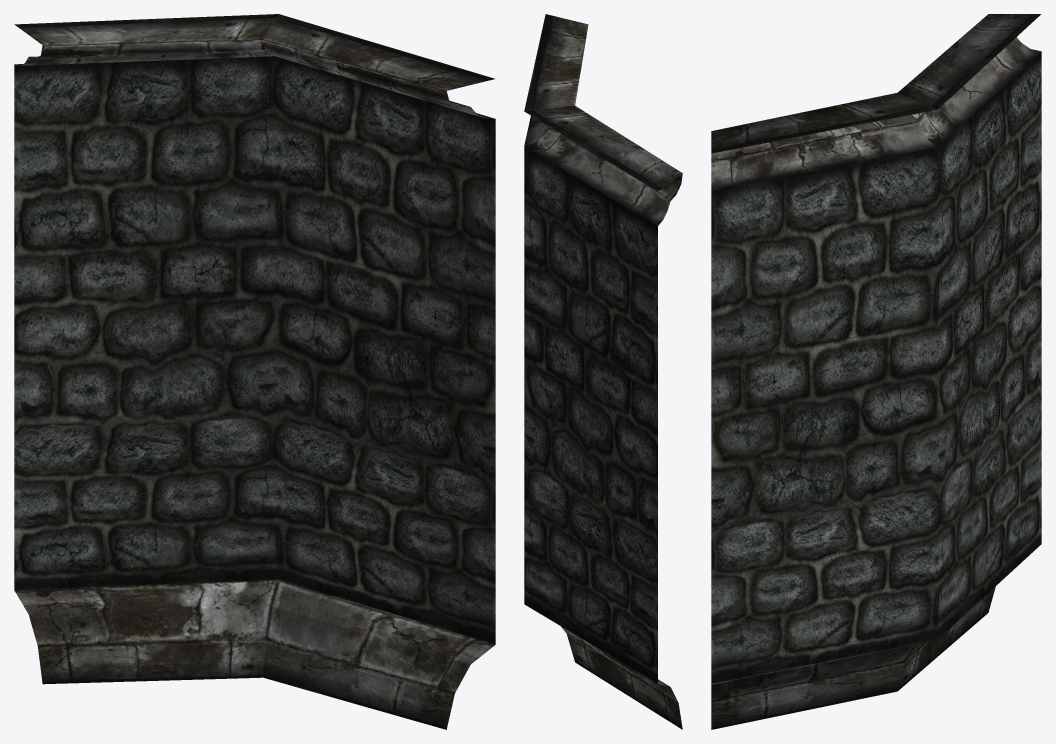
File: corner_concave_round_exstension_short.dae
3 renders of one model, left to right at view 1: azimuth 30°, elevation 25°; view 2: azimuth 150°, elevation 25°; view 3: azimuth 270°, elevation 25°, orthographic. The views are drawn at different scales.
Parts seen in each view (by area): view 1: polySurface117; view 2: polySurface117; view 3: polySurface117.
Boxes of the visible parts, x1=… form: polySurface117: x1=14, y1=14, x2=495, y2=729; polySurface117: x1=524, y1=14, x2=682, y2=729; polySurface117: x1=711, y1=14, x2=1041, y2=729.
Size of what is drawn, in the model's own units: 2 by 4 by 2.
